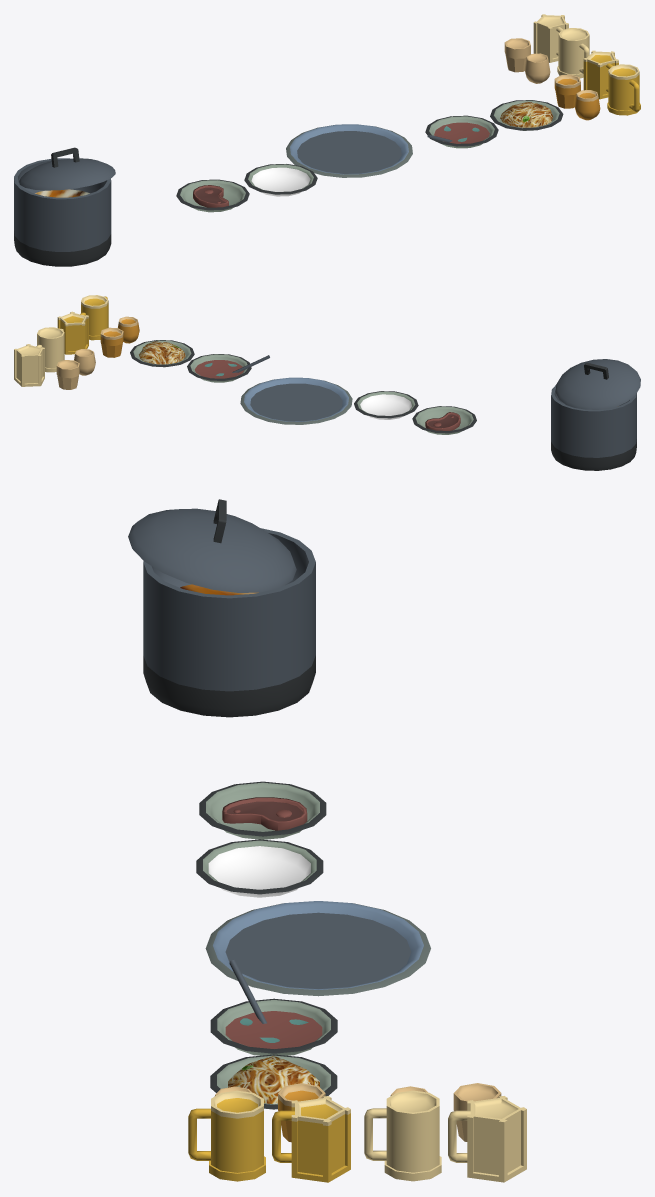
File: Posuda.fbx
3 views of the same model, one above another, from view 1: azimuth 30°, elevation 25°; view 2: azimuth 150°, elevation 25°; view 3: azimuth 270°, elevation 25° (orthographic). The views are drawn at different scales.
Visible parts, largest first — view 1: soup, podnos, plate_empty, plate_soup, plate_meat, plate_pasta, beer_2d_var, beer_2d_var1_empty, beer_1t_var, beer_1t_var1_empty, wiski_2d_var1_empty, wiski_2d_var (+2 smaller); view 2: soup, podnos, plate_soup, plate_empty, plate_meat, plate_pasta, beer_1t_var1_empty, beer_1t_var, beer_2d_var1_empty, beer_2d_var, wiski_2d_var1_empty, wiski_2d_var (+2 smaller); view 3: soup, podnos, plate_soup, plate_meat, plate_empty, beer_2d_var1_empty, beer_2d_var, beer_1t_var1_empty, beer_1t_var, plate_pasta, wiski_2d_var1_empty, wiski_2d_var.
Boxes of the visible parts, box(x1,y1,x2,y2) form: soup: box(14, 147, 115, 266); podnos: box(286, 124, 412, 177); plate_empty: box(244, 164, 317, 196); plate_soup: box(425, 115, 498, 148); plate_meat: box(176, 179, 249, 212); plate_pasta: box(490, 100, 563, 130); beer_2d_var: box(607, 64, 640, 115); beer_2d_var1_empty: box(557, 28, 589, 78); beer_1t_var: box(583, 50, 618, 99); beer_1t_var1_empty: box(533, 14, 568, 62); wiski_2d_var1_empty: box(504, 38, 530, 72); wiski_2d_var: box(554, 74, 580, 108); soup: box(551, 359, 640, 470); podnos: box(240, 377, 352, 424); plate_soup: box(187, 354, 269, 382); plate_empty: box(354, 391, 418, 419); plate_meat: box(412, 406, 476, 434); plate_pasta: box(130, 340, 194, 367); beer_1t_var1_empty: box(14, 344, 44, 386); beer_1t_var: box(57, 311, 88, 354); beer_2d_var1_empty: box(37, 327, 64, 372); beer_2d_var: box(81, 295, 108, 340); wiski_2d_var1_empty: box(56, 360, 79, 389); wiski_2d_var: box(100, 327, 123, 357); soup: box(128, 499, 315, 717); podnos: box(205, 901, 430, 996); plate_soup: box(210, 959, 337, 1055); plate_meat: box(199, 781, 326, 839); plate_empty: box(196, 839, 323, 897); beer_2d_var1_empty: box(364, 1090, 441, 1181); beer_2d_var: box(188, 1090, 265, 1181); beer_1t_var1_empty: box(448, 1096, 526, 1182); beer_1t_var: box(272, 1096, 350, 1182); plate_pasta: box(210, 1054, 337, 1109); wiski_2d_var1_empty: box(453, 1083, 501, 1141); wiski_2d_var: box(278, 1083, 325, 1142).
Bounding box in the file's own units: 2.08 × 0.3254 × 0.6536.
